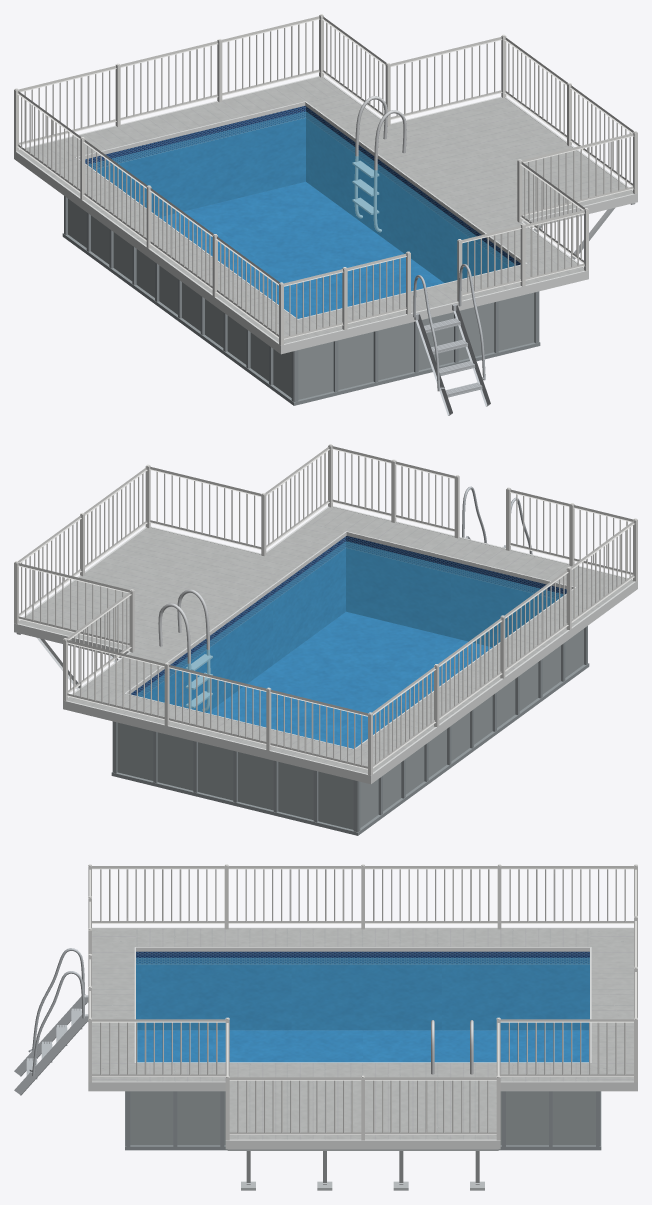
Rendered from kayak-pool-12x20-gray-t-ag-fence.d76265a9cb.glb.
3 views of the same model, one above another, from view 1: azimuth 30°, elevation 25°; view 2: azimuth 150°, elevation 25°; view 3: azimuth 270°, elevation 25° (orthographic). The views are drawn at different scales.
Visible parts, largest first — view 1: water, deck, fence, liner_wall, liner_floor, wall, fascia, upright, ladder, steel; view 2: water, deck, fence, liner_wall, wall, liner_floor, fascia, upright, steel, ladder; view 3: water, deck, liner_wall, fence, liner_floor, fascia, wall, ladder, upright, stud.
Boxes of the visible parts, <box> form: water: <box>88,111,516,318</box>; deck: <box>18,77,632,343</box>; fence: <box>14,14,637,345</box>; liner_wall: <box>85,106,520,282</box>; liner_floor: <box>159,182,443,318</box>; wall: <box>68,199,534,399</box>; fascia: <box>14,76,637,354</box>; upright: <box>62,196,540,405</box>; ladder: <box>413,264,490,415</box>; steel: <box>352,96,406,232</box>; water: <box>135,541,563,748</box>; deck: <box>19,507,633,773</box>; fence: <box>14,444,637,775</box>; liner_wall: <box>131,536,566,712</box>; wall: <box>117,629,583,829</box>; liner_floor: <box>208,612,492,748</box>; fascia: <box>14,506,637,784</box>; upright: <box>111,626,589,835</box>; steel: <box>158,589,212,711</box>; ladder: <box>462,486,532,554</box>; water: <box>136,957,589,1062</box>; deck: <box>92,928,633,1139</box>; liner_wall: <box>136,951,589,1030</box>; fence: <box>88,864,637,1140</box>; liner_floor: <box>137,1030,588,1062</box>; fascia: <box>88,927,637,1149</box>; wall: <box>130,1091,595,1145</box>; ladder: <box>14,948,88,1095</box>; upright: <box>125,1091,601,1150</box>; stud: <box>227,1149,498,1190</box>.
Bounding box in the file's own units: 6.71 × 2.15 × 8.3.
Materials: 11 (3 with a texture image).
